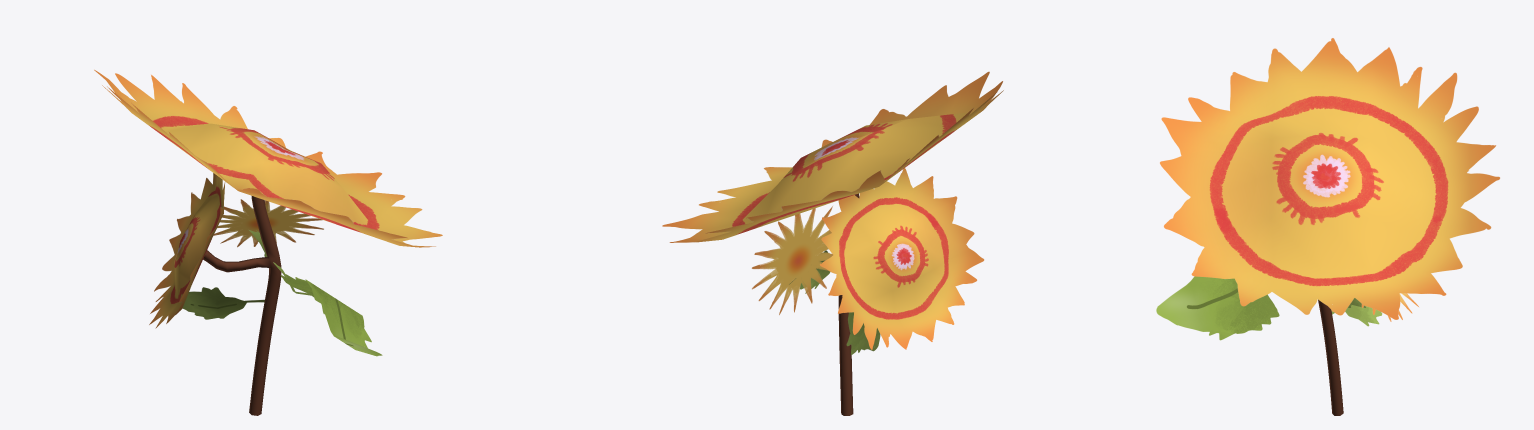
Rendered from Sunflower2.glb.
3 renders of one model, left to right at view 1: azimuth 30°, elevation 25°; view 2: azimuth 150°, elevation 25°; view 3: azimuth 270°, elevation 25°, orthographic. The views are drawn at different scales.
Parts seen in each view (by area): view 1: Plane.009; view 2: Plane.009; view 3: Plane.009.
Boxes of the visible parts, x1,y1,x2,y2 form: Plane.009: (94,69,442,415); Plane.009: (662,71,1003,415); Plane.009: (1156,38,1500,415).
Size of the model in its own units: 1.42 by 1.52 by 1.61.
Materials: 7 (6 with a texture image).
